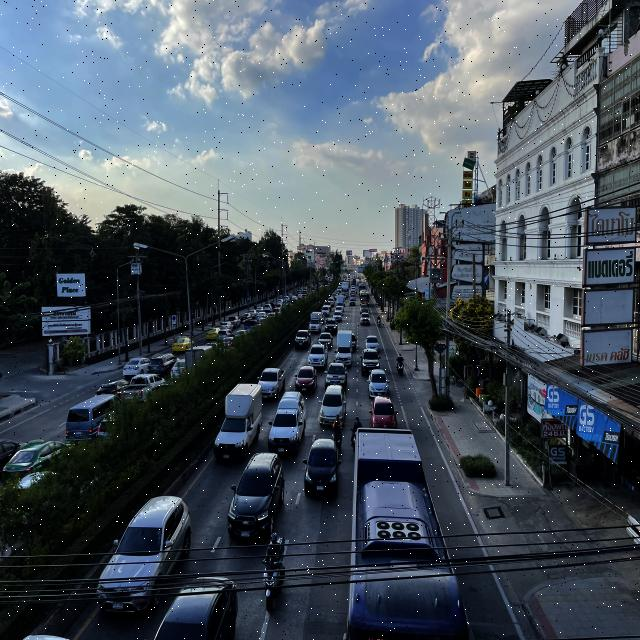bike: (261, 532, 287, 614), (331, 414, 344, 449), (352, 414, 362, 456), (395, 350, 405, 378)
bus: (346, 430, 466, 640)
car: (96, 498, 192, 615), (150, 572, 240, 640), (224, 452, 287, 542), (303, 436, 340, 503), (318, 385, 347, 428), (256, 366, 287, 400), (370, 398, 398, 429), (325, 363, 348, 394), (367, 370, 391, 398), (294, 366, 318, 394), (360, 348, 382, 377), (294, 329, 312, 350), (365, 335, 380, 353), (318, 332, 333, 349), (325, 318, 338, 335), (360, 312, 371, 326)
truck: (212, 383, 263, 463), (267, 392, 307, 456), (335, 330, 352, 367), (307, 340, 328, 369), (308, 311, 322, 334)
